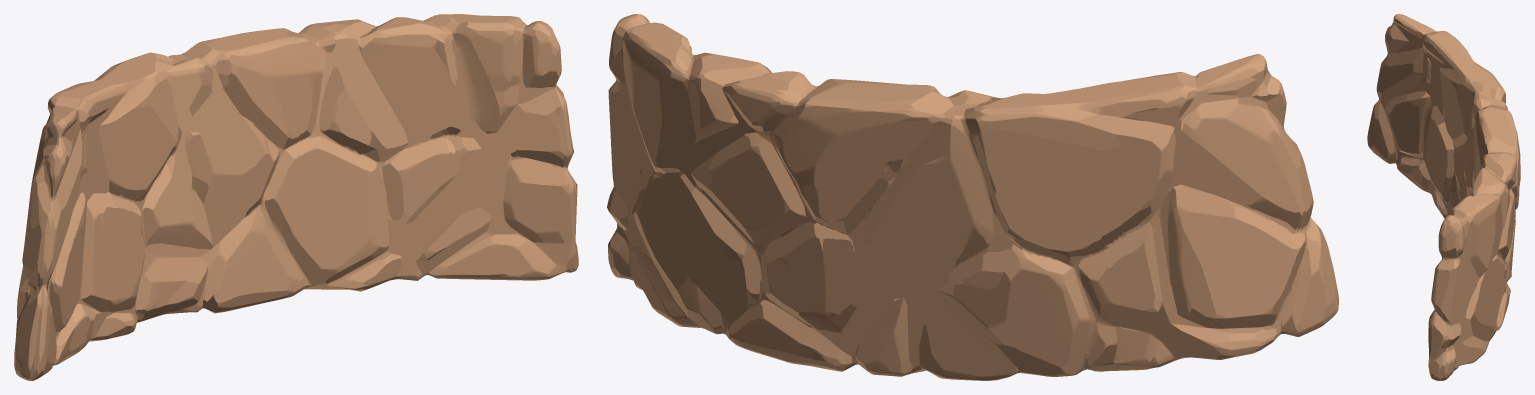
3 views of the same model, side by side, from view 1: azimuth 30°, elevation 25°; view 2: azimuth 150°, elevation 25°; view 3: azimuth 270°, elevation 25° (orthographic). The views are drawn at different scales.
Visible parts, largest first — view 1: Mesh_90_LOD0; view 2: Mesh_90_LOD0; view 3: Mesh_90_LOD0.
Boxes of the visible parts, <box> form: Mesh_90_LOD0: <box>14,14,578,380</box>; Mesh_90_LOD0: <box>607,14,1338,380</box>; Mesh_90_LOD0: <box>1367,14,1520,380</box>.
Size of what is drawn, in the model's own units: 5417 by 2656 by 1857.
